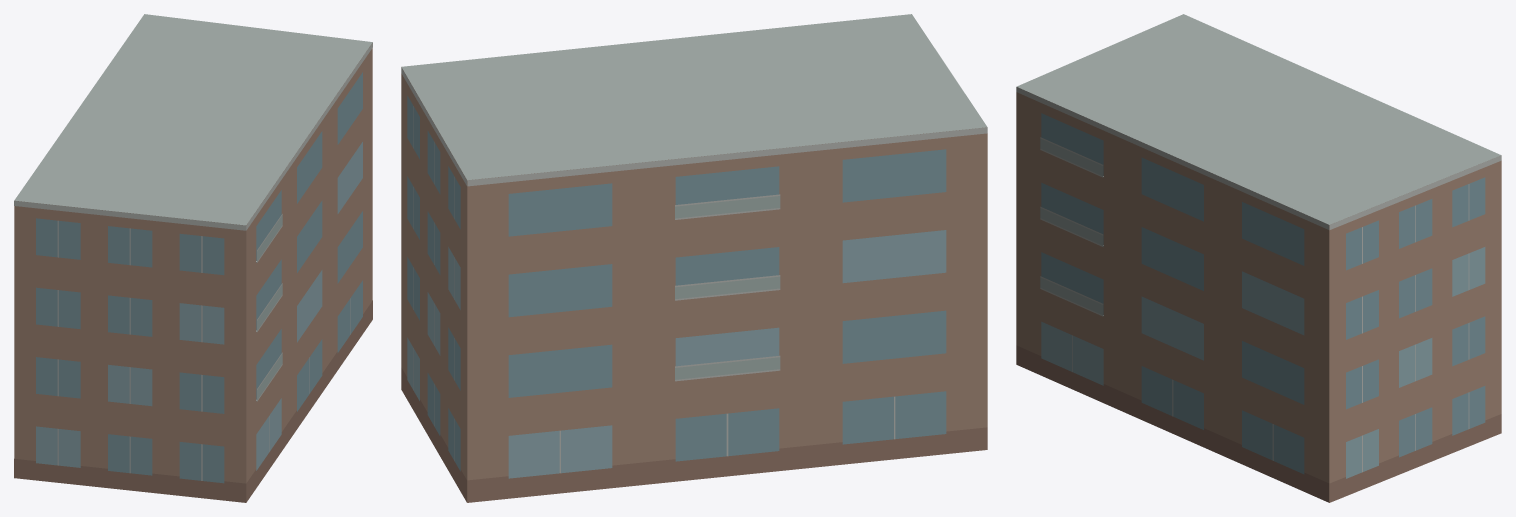
File: survey-upis-32841440.glb
3 views of the same model, side by side, from view 1: azimuth 30°, elevation 25°; view 2: azimuth 150°, elevation 25°; view 3: azimuth 270°, elevation 25° (orthographic). The views are drawn at different scales.
Visible parts, largest first — view 1: survey-upis-32841440.tmp; view 2: survey-upis-32841440.tmp; view 3: survey-upis-32841440.tmp.
Boxes of the visible parts, <box> form: survey-upis-32841440.tmp: <box>14,14,372,502</box>; survey-upis-32841440.tmp: <box>401,14,987,502</box>; survey-upis-32841440.tmp: <box>1016,14,1501,502</box>.
Size of the model in its own units: 20.68 by 12.7 by 20.1.
